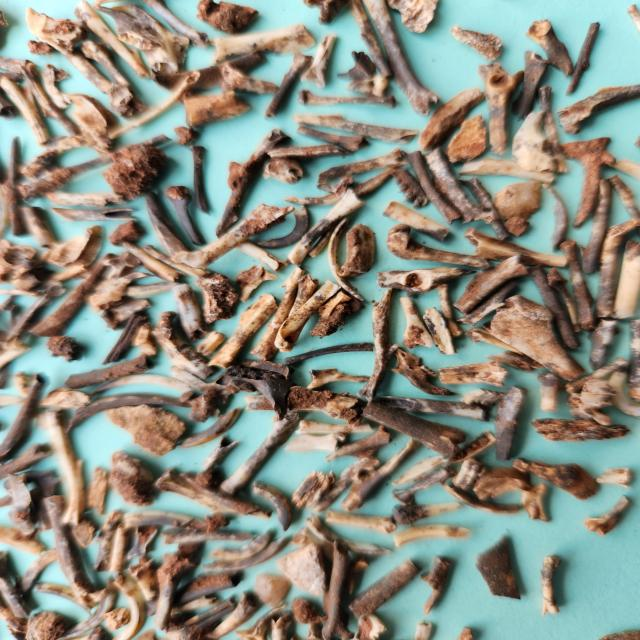fossil: (20, 4, 152, 117), (15, 133, 174, 203), (361, 0, 443, 118), (212, 127, 294, 240), (484, 294, 586, 382), (24, 252, 119, 342), (172, 203, 297, 271), (217, 408, 307, 496), (100, 69, 202, 145), (41, 493, 102, 619), (167, 364, 295, 422), (70, 0, 156, 86), (0, 55, 84, 141), (147, 48, 271, 105), (281, 187, 368, 268), (153, 464, 276, 520), (33, 406, 89, 528), (360, 397, 472, 458), (94, 5, 193, 74), (334, 435, 422, 512), (388, 429, 504, 487), (244, 264, 309, 366), (96, 395, 195, 459), (205, 292, 281, 371), (420, 145, 495, 225), (521, 261, 586, 353), (347, 553, 424, 628), (241, 384, 367, 429), (353, 284, 400, 404), (64, 393, 195, 436), (384, 222, 494, 271), (207, 18, 319, 66), (590, 216, 640, 321), (149, 538, 206, 630), (474, 60, 528, 157), (414, 84, 488, 154), (281, 166, 400, 209), (145, 308, 217, 379), (273, 280, 343, 352), (453, 252, 532, 314), (555, 80, 640, 137), (560, 137, 612, 230), (308, 452, 384, 515), (462, 226, 570, 270), (1, 281, 69, 350), (0, 371, 51, 463), (53, 86, 120, 156), (400, 151, 462, 224), (105, 403, 187, 457), (292, 112, 421, 146), (101, 142, 170, 204), (345, 0, 396, 83), (511, 454, 603, 500), (0, 72, 56, 147), (17, 131, 96, 183), (89, 251, 155, 313), (300, 513, 395, 556), (578, 176, 618, 278), (560, 236, 602, 332), (386, 342, 455, 400), (455, 176, 514, 243), (315, 146, 411, 187), (562, 20, 613, 97), (261, 51, 316, 122), (60, 350, 155, 391), (140, 0, 212, 53), (110, 505, 233, 536), (319, 537, 356, 640), (474, 530, 524, 606), (58, 579, 120, 640), (516, 18, 578, 79), (505, 48, 554, 124), (141, 186, 191, 259), (367, 396, 497, 424), (198, 534, 292, 572), (164, 566, 242, 611), (455, 152, 556, 186), (455, 278, 523, 328), (327, 215, 366, 302), (379, 199, 454, 244), (534, 84, 571, 175), (488, 384, 530, 464), (375, 266, 480, 298), (388, 462, 461, 508), (274, 544, 336, 598), (203, 589, 268, 640), (527, 415, 637, 445), (509, 108, 558, 174), (41, 223, 108, 271), (440, 110, 495, 168), (178, 404, 247, 450), (320, 421, 394, 463), (120, 238, 186, 285), (439, 480, 525, 516), (97, 310, 148, 370), (162, 602, 242, 640), (180, 88, 254, 129), (79, 38, 133, 94), (0, 129, 27, 241), (140, 242, 218, 280), (110, 447, 158, 508), (164, 182, 208, 248), (564, 353, 633, 395), (561, 377, 620, 426), (608, 236, 640, 326), (108, 570, 149, 640), (464, 327, 543, 363), (305, 292, 364, 339), (296, 30, 341, 91), (412, 554, 456, 616), (16, 546, 64, 602), (168, 281, 214, 339), (254, 204, 312, 250), (334, 222, 380, 280), (388, 522, 474, 553), (547, 265, 584, 337), (193, 0, 263, 38), (87, 372, 196, 396), (432, 358, 515, 389), (580, 494, 636, 539), (215, 60, 281, 98), (208, 526, 279, 561), (284, 340, 375, 367), (395, 293, 438, 350), (96, 293, 159, 331), (89, 508, 127, 571), (294, 124, 371, 155), (5, 468, 39, 538), (448, 23, 509, 62), (582, 316, 623, 374), (295, 88, 398, 111), (471, 464, 533, 502), (157, 524, 259, 547), (194, 270, 237, 324), (0, 439, 55, 481), (538, 182, 570, 252), (233, 601, 290, 640), (186, 143, 216, 217), (496, 175, 544, 221), (254, 480, 299, 529), (19, 204, 63, 254), (286, 468, 338, 510), (420, 305, 461, 356), (288, 524, 346, 560), (384, 0, 441, 36), (535, 553, 565, 620), (298, 365, 375, 391), (0, 519, 50, 559), (125, 553, 165, 603), (39, 60, 77, 112), (294, 416, 382, 438), (232, 239, 290, 272), (198, 432, 246, 471), (604, 368, 640, 420), (252, 569, 300, 608), (606, 172, 640, 227), (47, 205, 145, 224), (284, 273, 322, 322), (0, 238, 43, 281), (234, 264, 280, 304), (392, 501, 466, 525), (278, 430, 352, 454), (45, 188, 129, 209), (180, 596, 238, 626), (434, 280, 463, 340), (339, 556, 373, 606), (164, 589, 220, 619), (266, 141, 346, 162), (33, 385, 97, 411), (80, 464, 112, 516), (332, 48, 378, 84), (389, 168, 430, 208), (187, 381, 226, 423), (285, 596, 336, 628), (104, 522, 134, 576), (22, 609, 74, 640), (234, 356, 295, 382), (260, 152, 306, 186), (124, 520, 164, 559), (515, 482, 554, 522), (0, 574, 31, 624), (296, 0, 350, 28), (44, 330, 88, 364), (482, 349, 544, 373), (534, 368, 566, 414), (341, 68, 388, 98), (10, 264, 59, 292), (626, 315, 640, 405), (170, 122, 211, 152), (309, 174, 358, 199), (351, 610, 391, 640), (596, 461, 636, 491), (108, 218, 145, 249), (307, 222, 337, 260), (127, 280, 183, 300), (130, 321, 158, 361), (0, 342, 34, 374), (0, 602, 35, 633), (42, 262, 90, 284), (456, 386, 507, 406), (194, 329, 228, 356), (101, 607, 137, 632), (0, 283, 47, 300), (21, 35, 54, 59), (0, 183, 13, 241), (621, 2, 640, 41), (0, 388, 35, 408), (612, 157, 640, 182), (501, 216, 532, 238), (0, 90, 20, 123), (597, 627, 640, 640), (269, 616, 291, 640), (411, 620, 437, 640), (304, 619, 327, 640), (454, 624, 477, 640)
